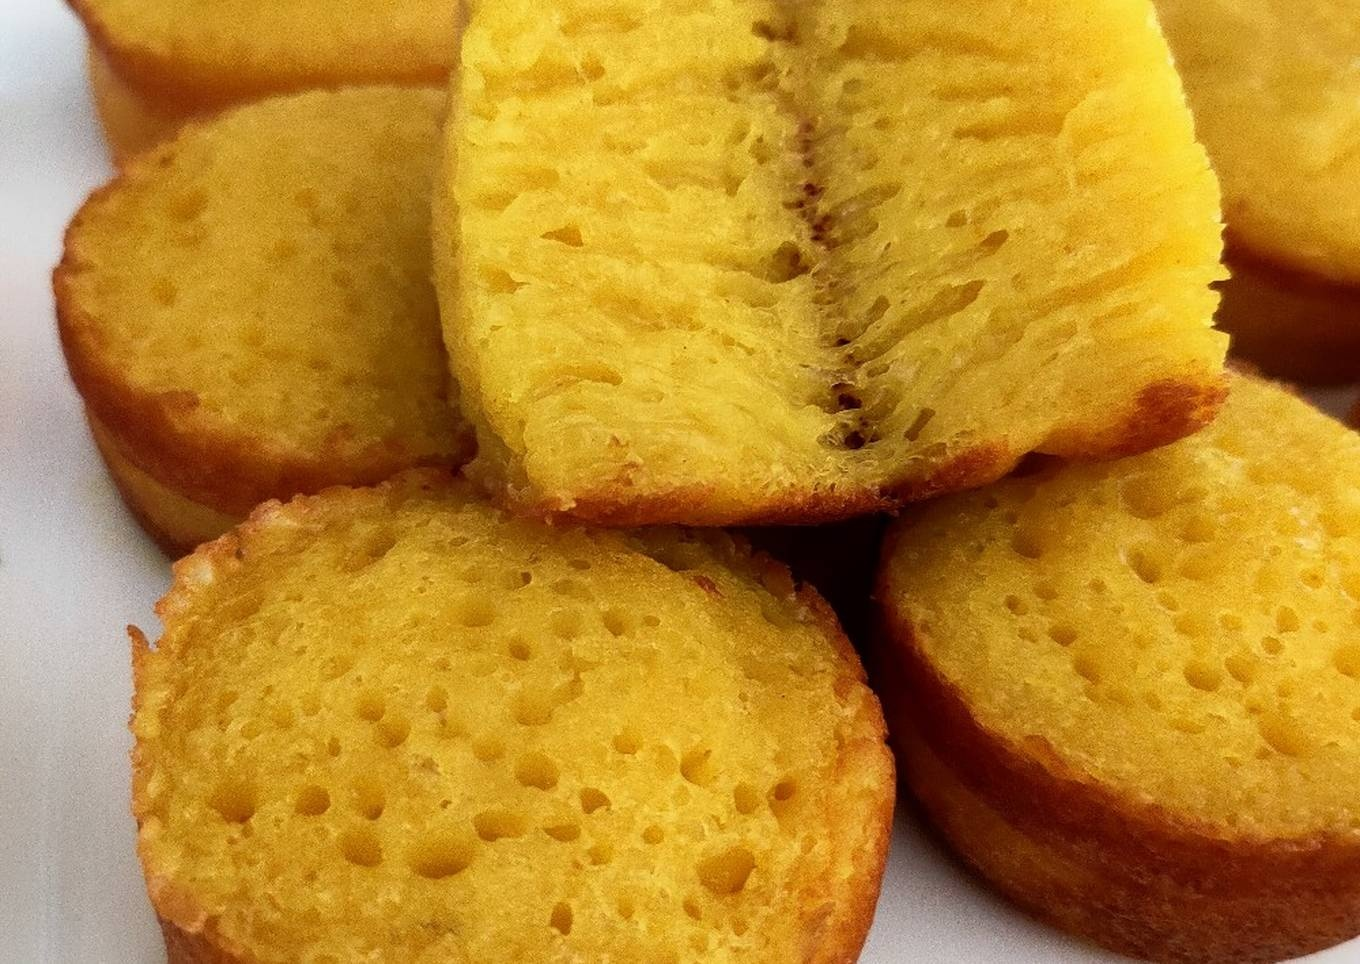bika_ambon: (430, 1, 1219, 517)
